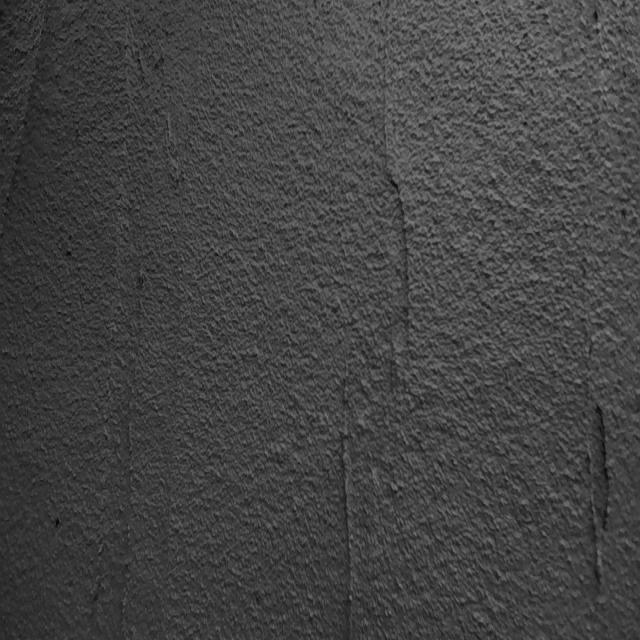trowels marks: (377, 12, 420, 357), (11, 4, 55, 217), (336, 388, 364, 634)
